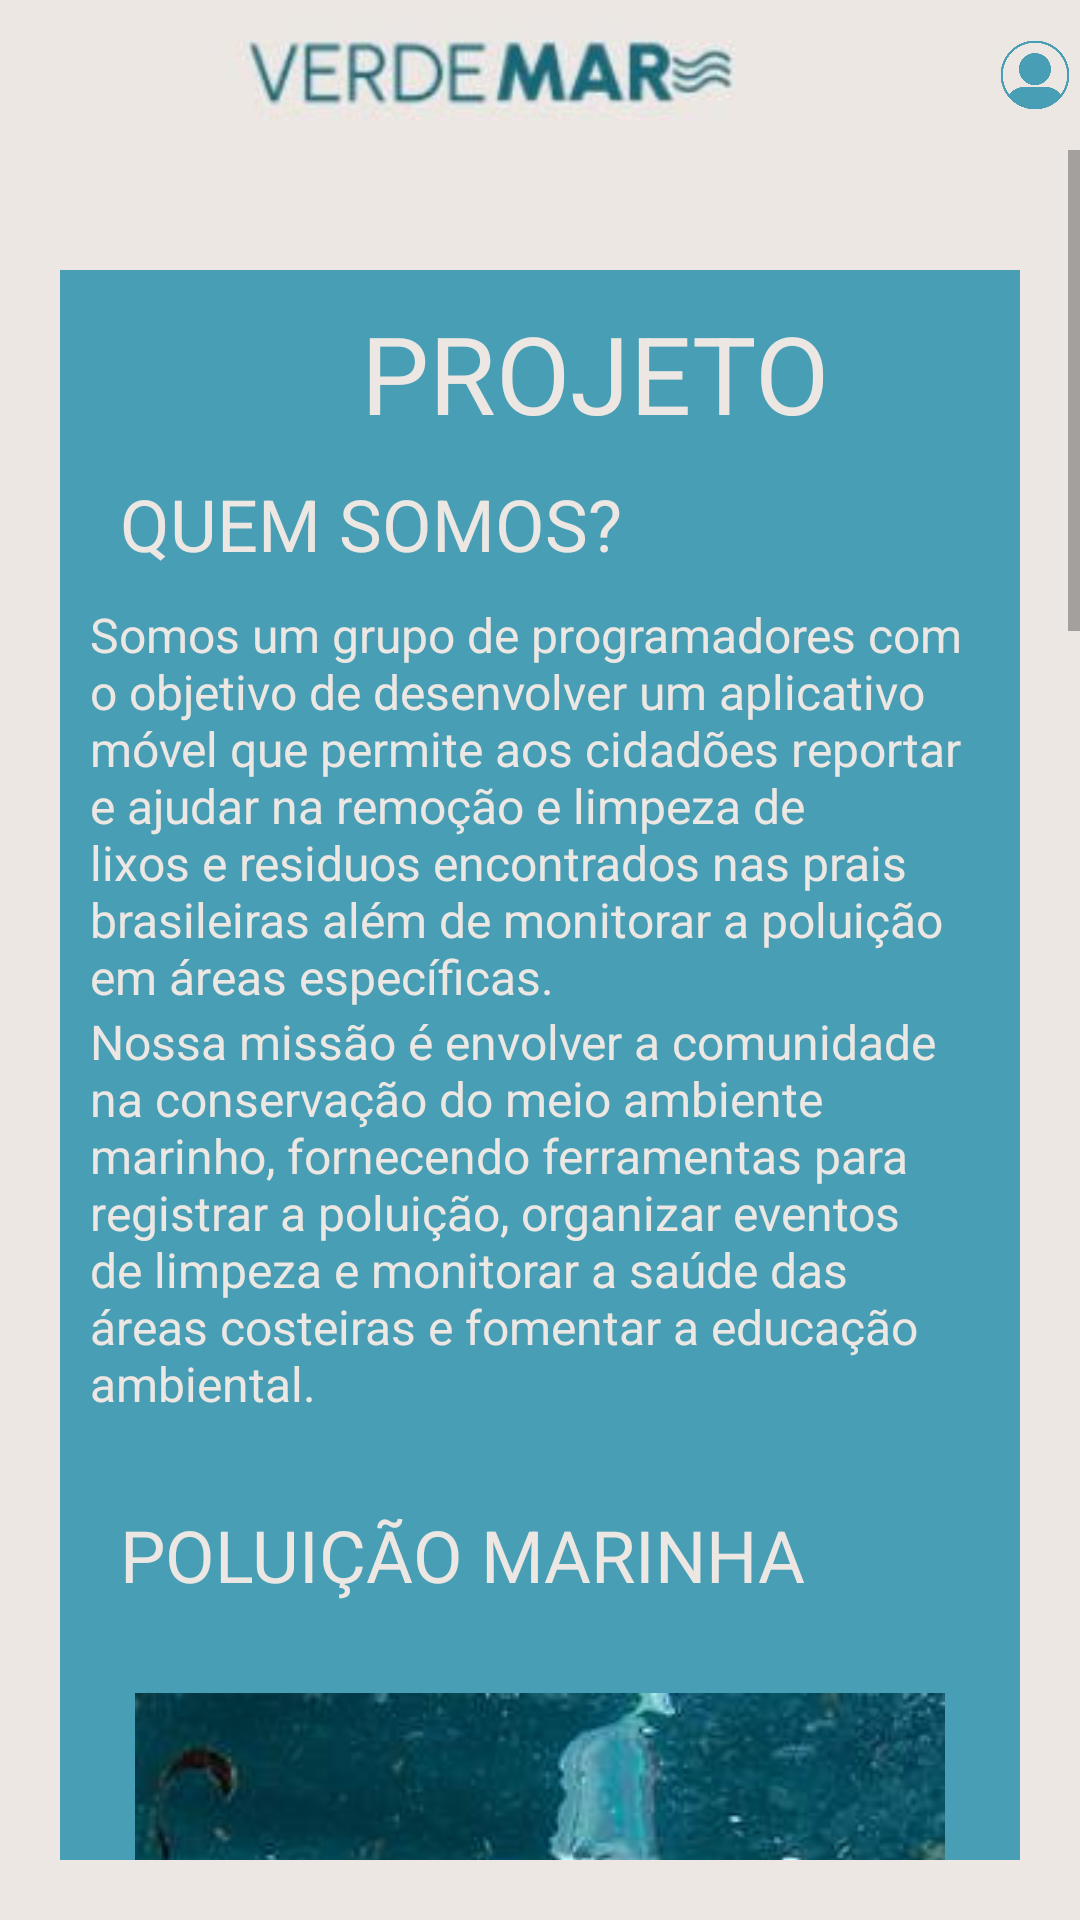

Point at icon controls on the screen. Image size 1080 x 1920, points as (x=x, y=y).
usuario: (x=1035, y=74)
